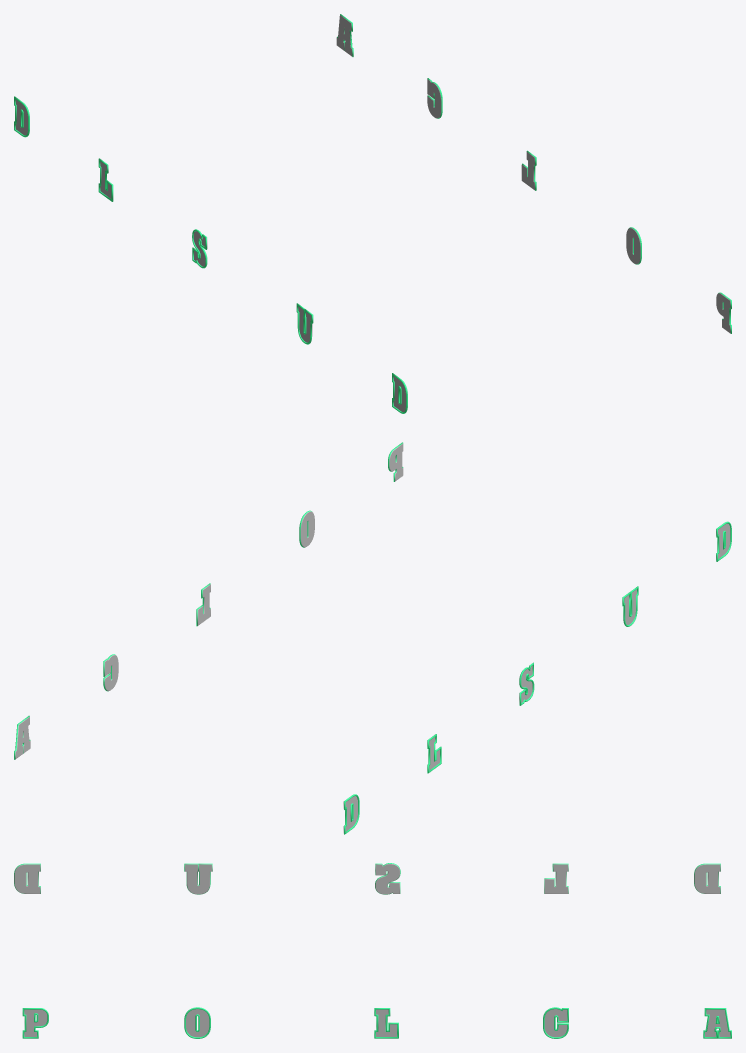
The picture shows the model from 3 angles, top to bottom: view 1: azimuth 30°, elevation 25°; view 2: azimuth 150°, elevation 25°; view 3: azimuth 270°, elevation 25°; orthographic projection. The views are drawn at different scales.
Parts seen in each view (by area): view 1: Text.002, Text, Text.001; view 2: Text.002, Text.001, Text; view 3: Text, Text.002, Text.003, Text.001.
Boxes of the visible parts, x1,y1,x2,y2 form: Text.002: [336, 15, 730, 333]; Text: [15, 99, 407, 411]; Text.001: [14, 96, 407, 413]; Text.002: [15, 443, 403, 759]; Text.001: [344, 521, 731, 834]; Text: [343, 523, 730, 833]; Text: [14, 863, 720, 894]; Text.002: [24, 1009, 730, 1037]; Text.003: [22, 1007, 731, 1038]; Text.001: [14, 863, 720, 894].
Bounding box in the file's own units: 800 × 80.98 × 1674.
